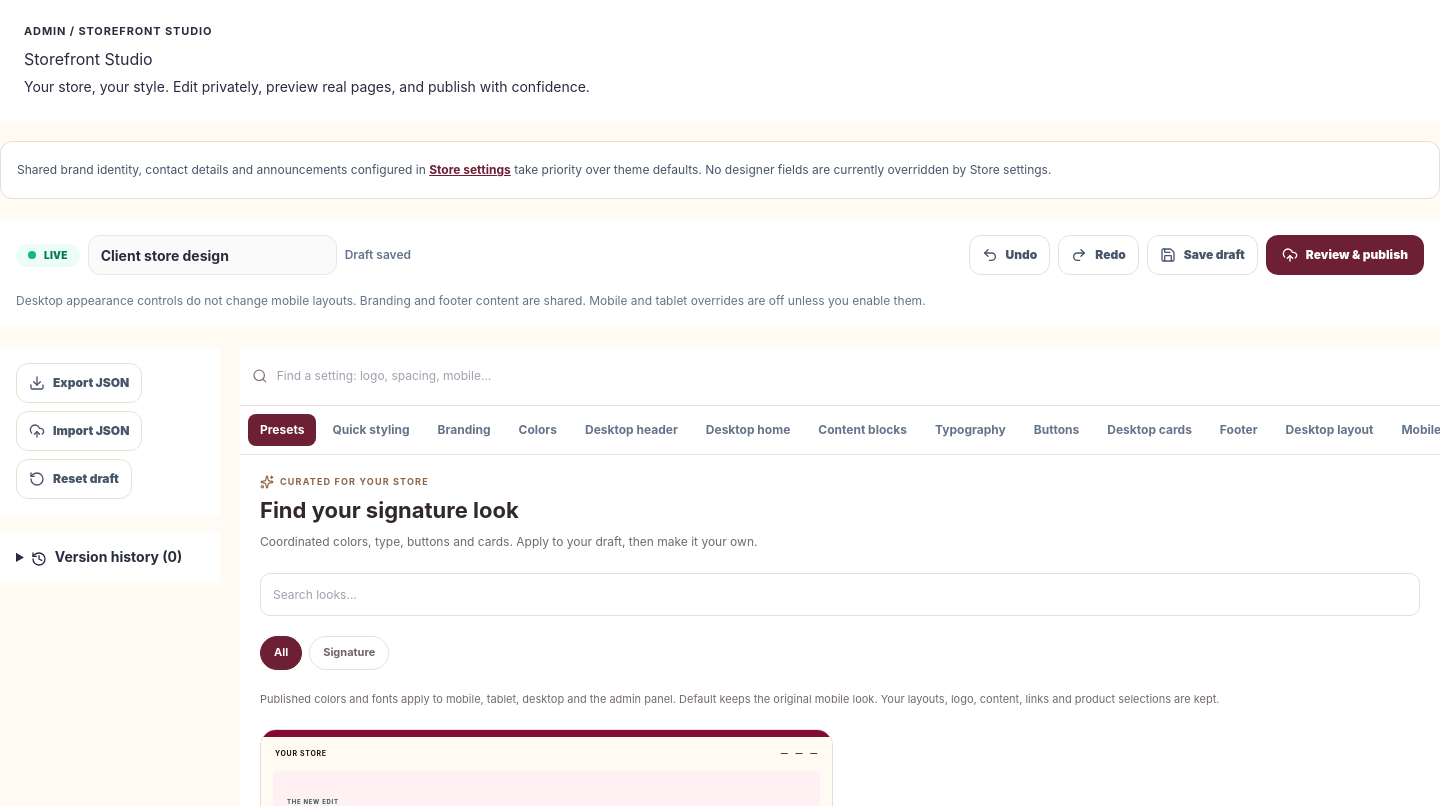
Test: seller studio saves through tenant routes and keeps master theme controls hidden
Expected: the heading "Storefront Studio" is shown, [24,49,153,69]
Step 1. Click the button "Save draft" → click(1202, 255), box [1147,235,1258,275]
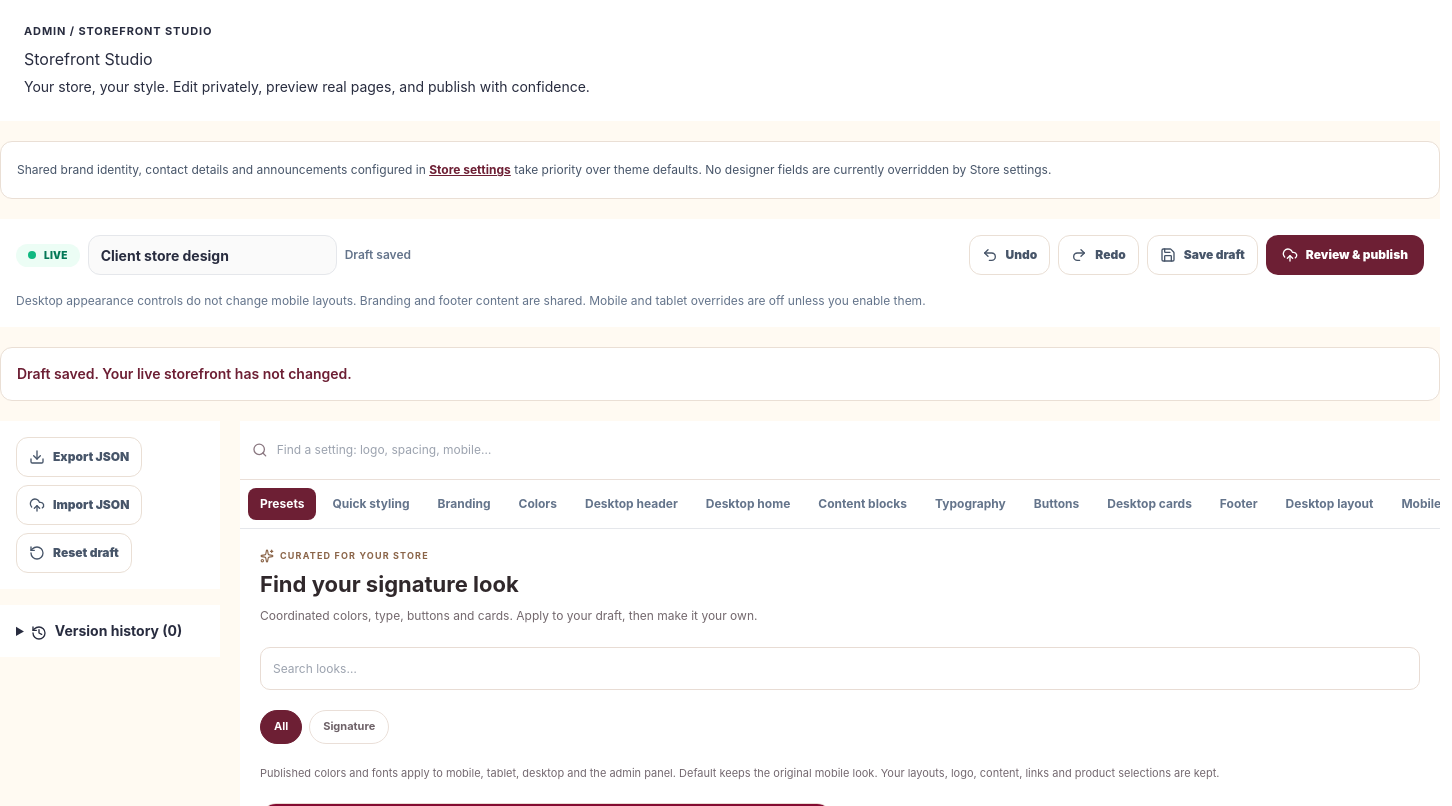
Expected: the text "Draft saved. Your live storefront has not changed." is shown, [0,347,1440,401]
